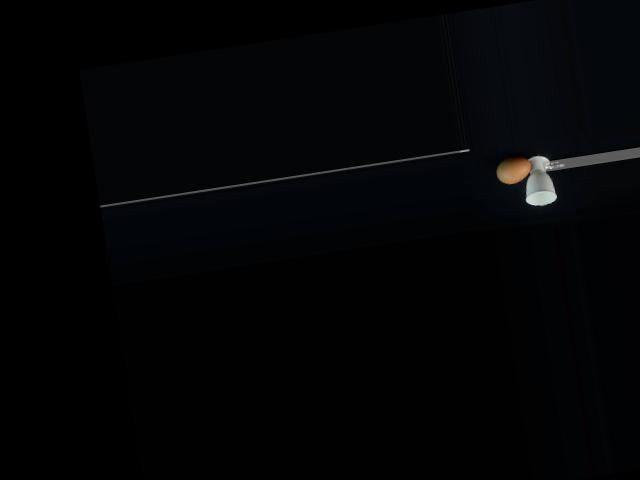egg: (495, 155, 533, 185)
